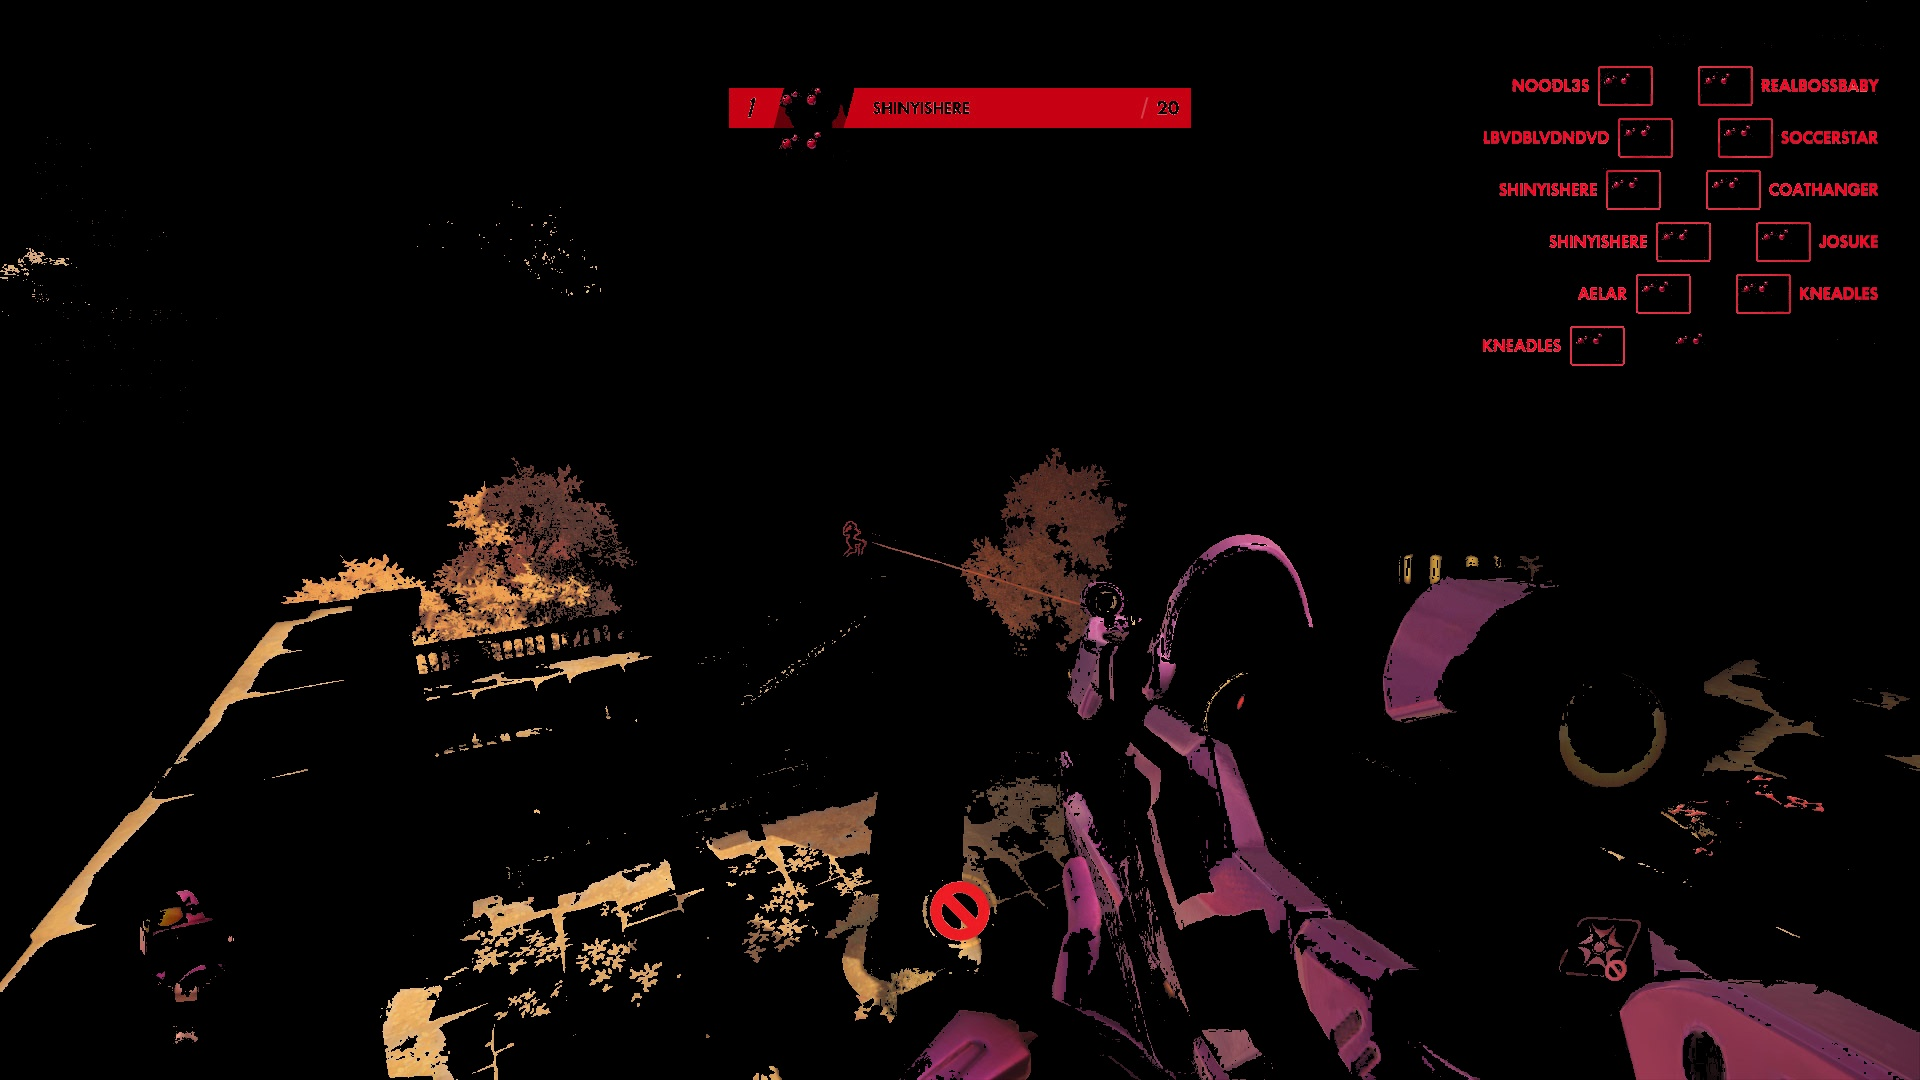widowmaker: (1709, 811, 1778, 940), (841, 520, 866, 560)
